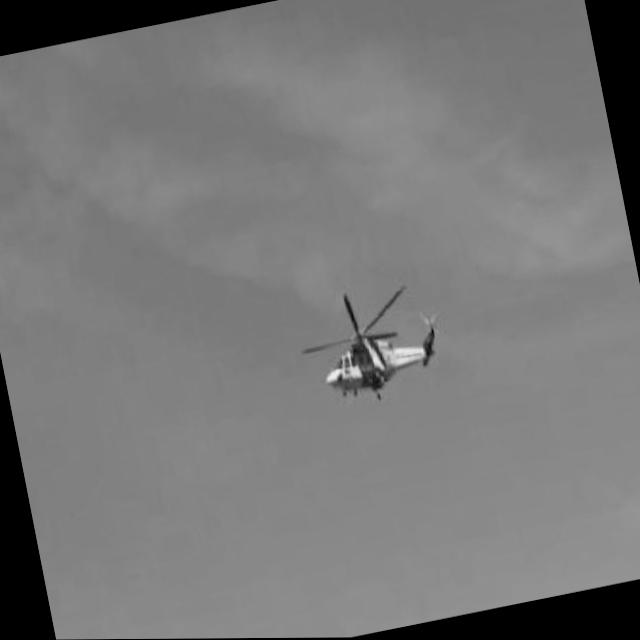helikopter: (295, 278, 447, 416)
